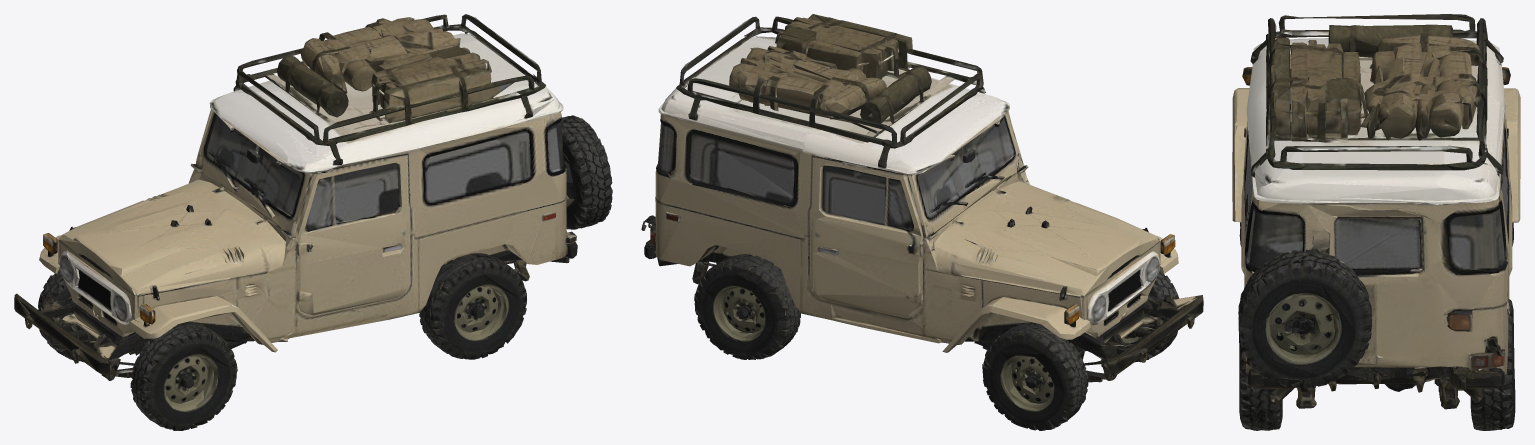
File: safari-jeep.glb
The picture shows the model from 3 angles, left to right: view 1: azimuth 30°, elevation 25°; view 2: azimuth 150°, elevation 25°; view 3: azimuth 270°, elevation 25°; orthographic projection. The views are drawn at different scales.
Size of the model in its own units: 1.9 by 0.9904 by 0.752.
1 material, 1 textured.
